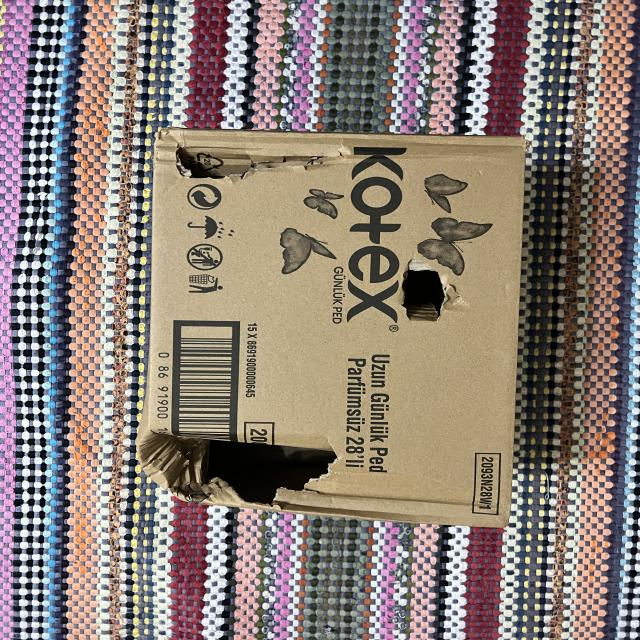damaged: (136, 121, 518, 526), (135, 412, 351, 516), (165, 134, 336, 186), (379, 249, 465, 340)
